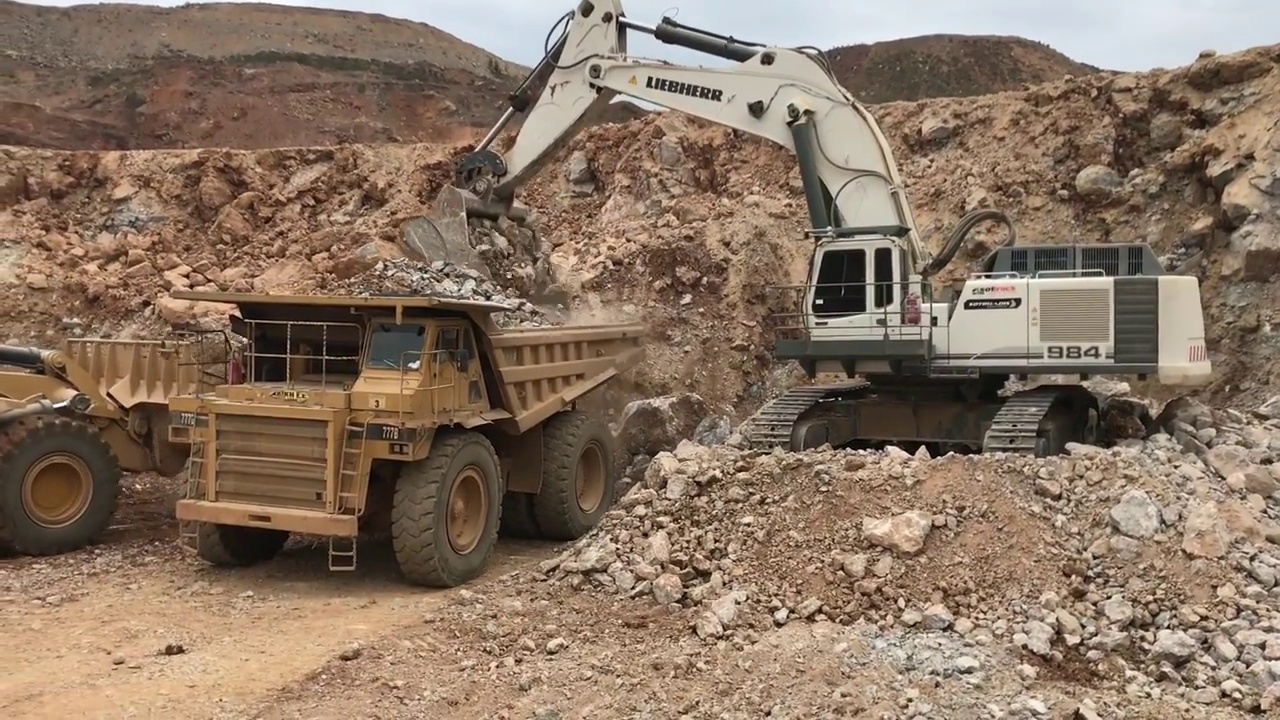dumper: (165, 285, 642, 586)
excavator: (401, 1, 1215, 465)
